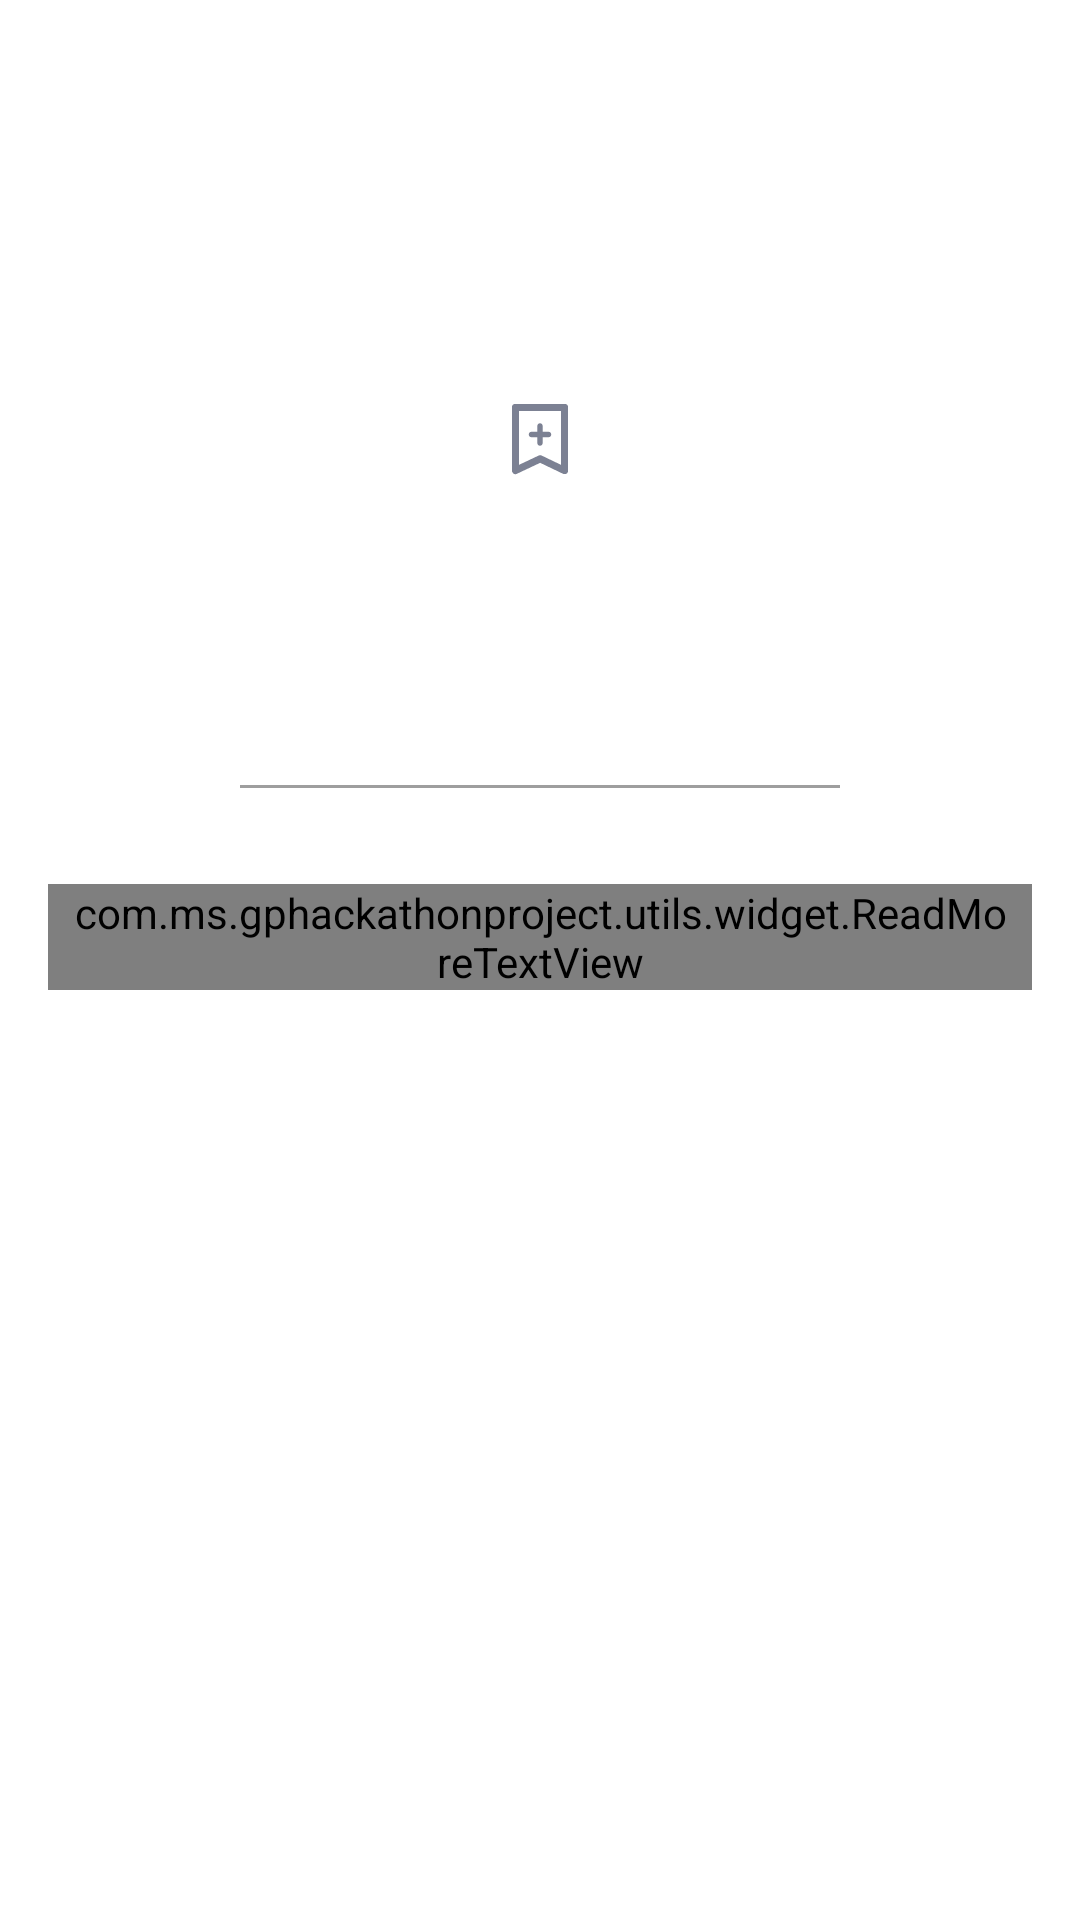

Point at icon controls on the screen. Image size 1080w x 1920h, points as point (x, y).
wishlist: point (540, 439)
